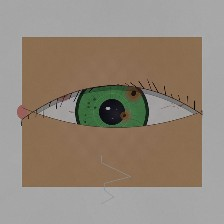foreign_body_visible: (119, 81, 149, 105)
